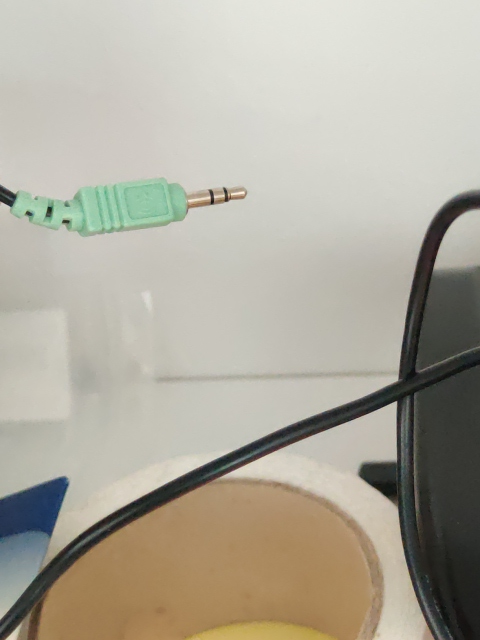3.5mm_audio: (183, 184, 247, 211)
